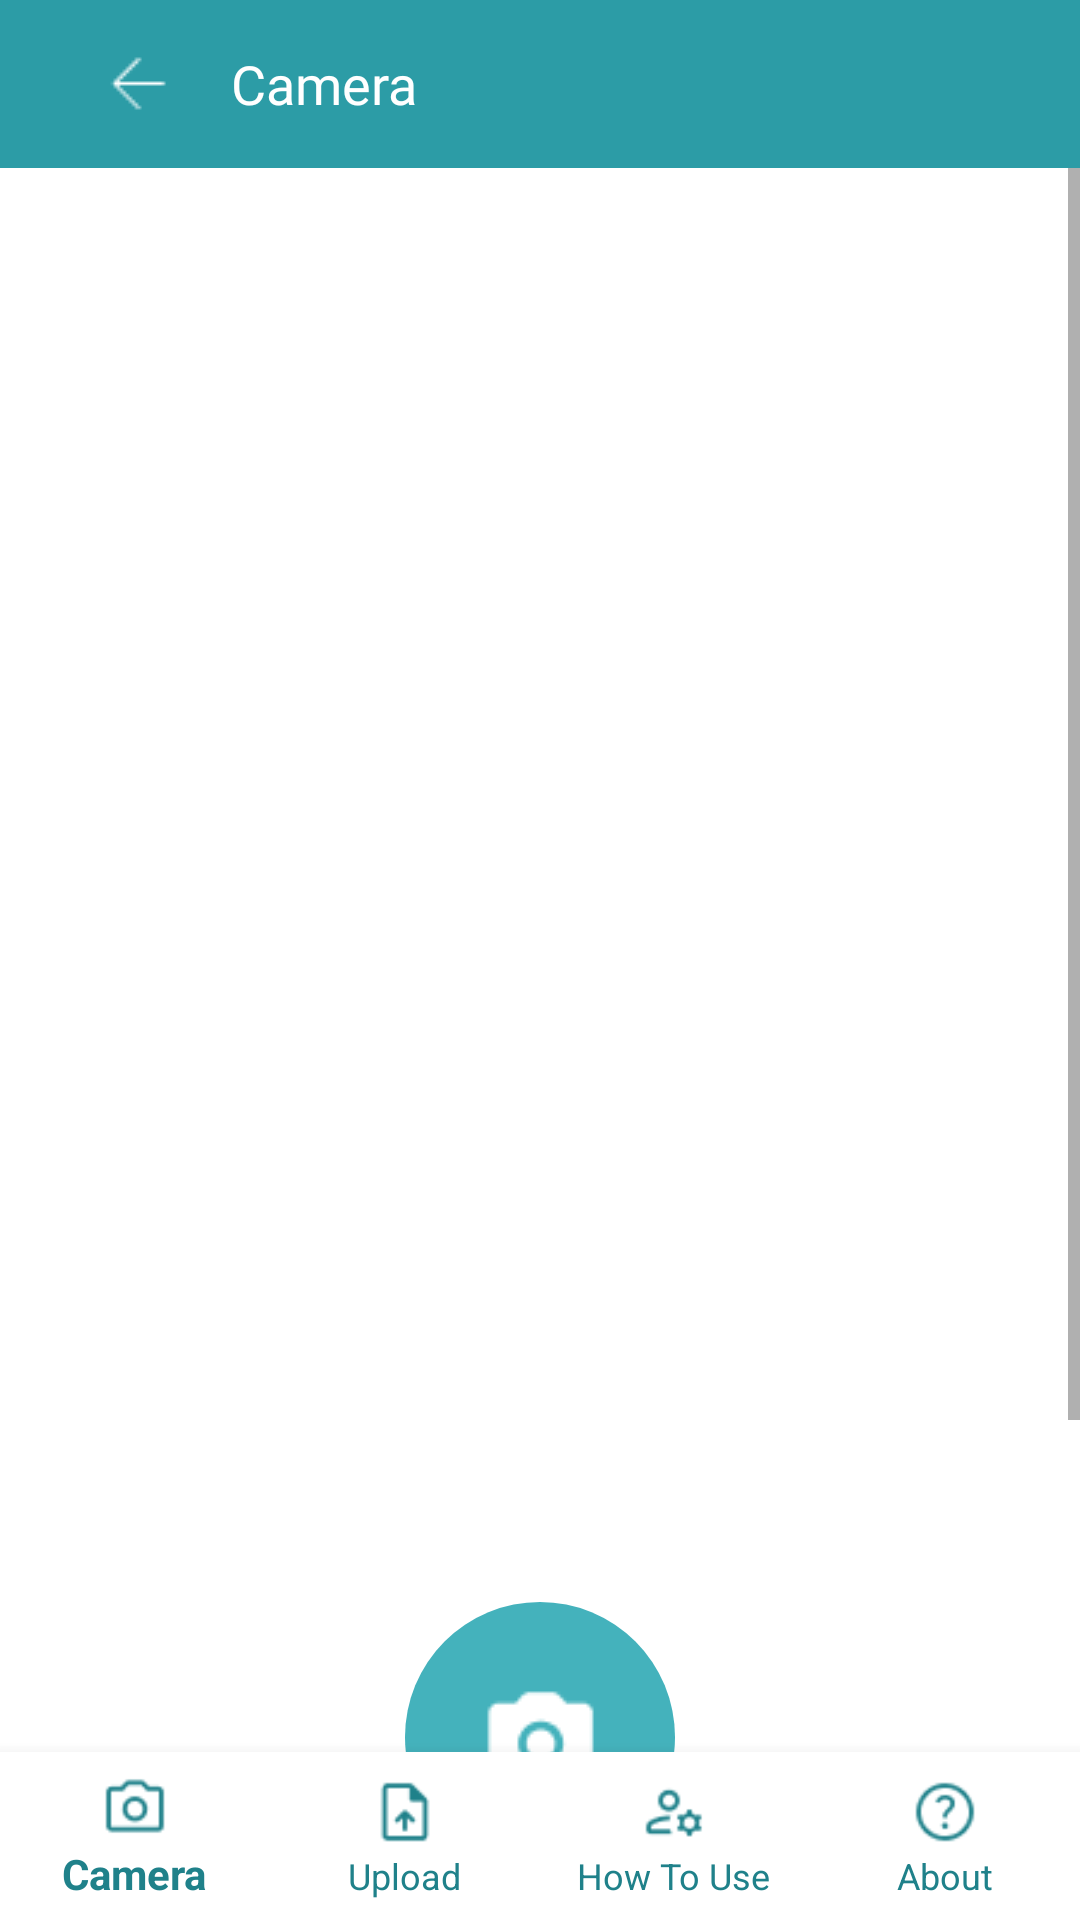

Where to tap for icons on this 1080*1920 app screen, as (x,y):
fback: (138,83)
